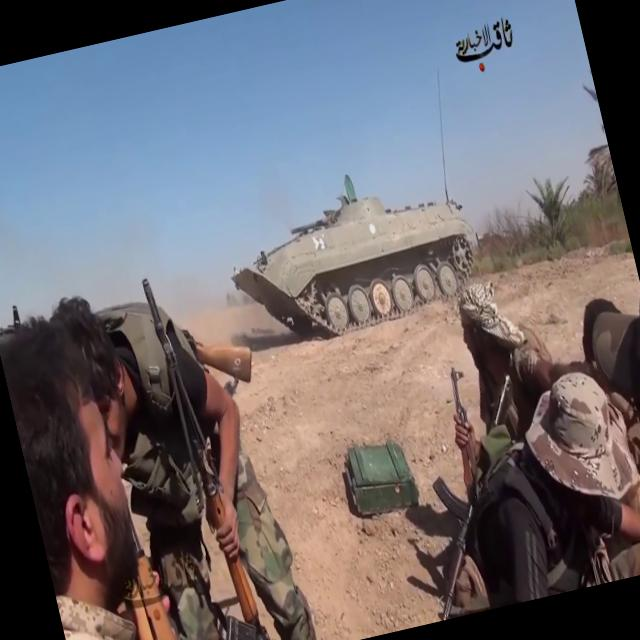long weapon: (122, 253, 293, 639), (374, 368, 562, 624), (401, 337, 520, 599)
